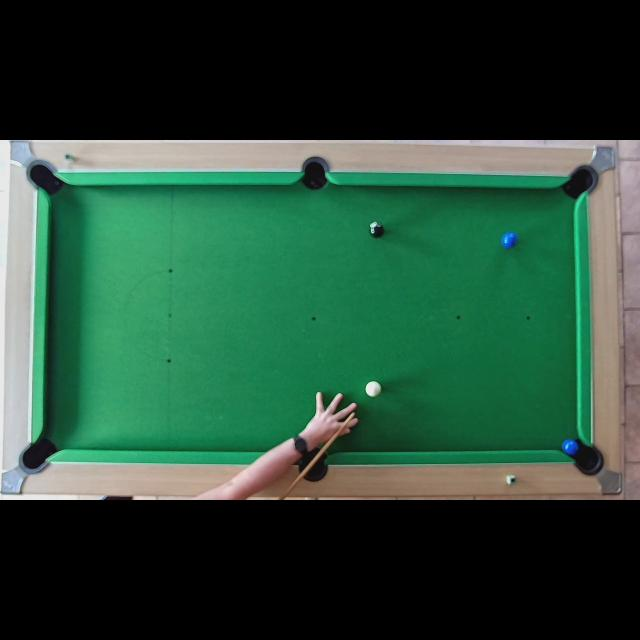Ball: (562, 439, 578, 456), (365, 381, 381, 397), (368, 222, 384, 238), (501, 233, 517, 249)
